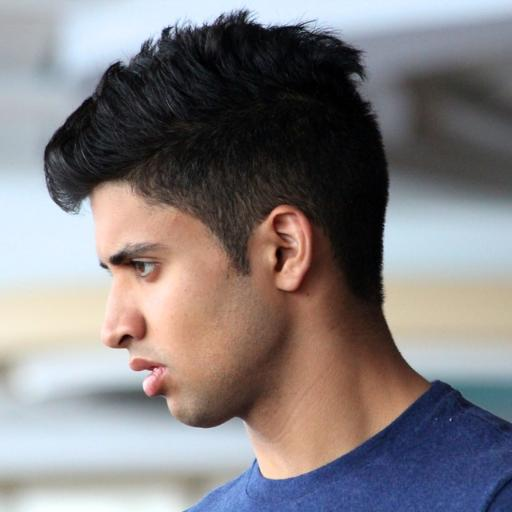left_eye: (125, 257, 166, 283)
left_lip_corner: (152, 357, 172, 378)
